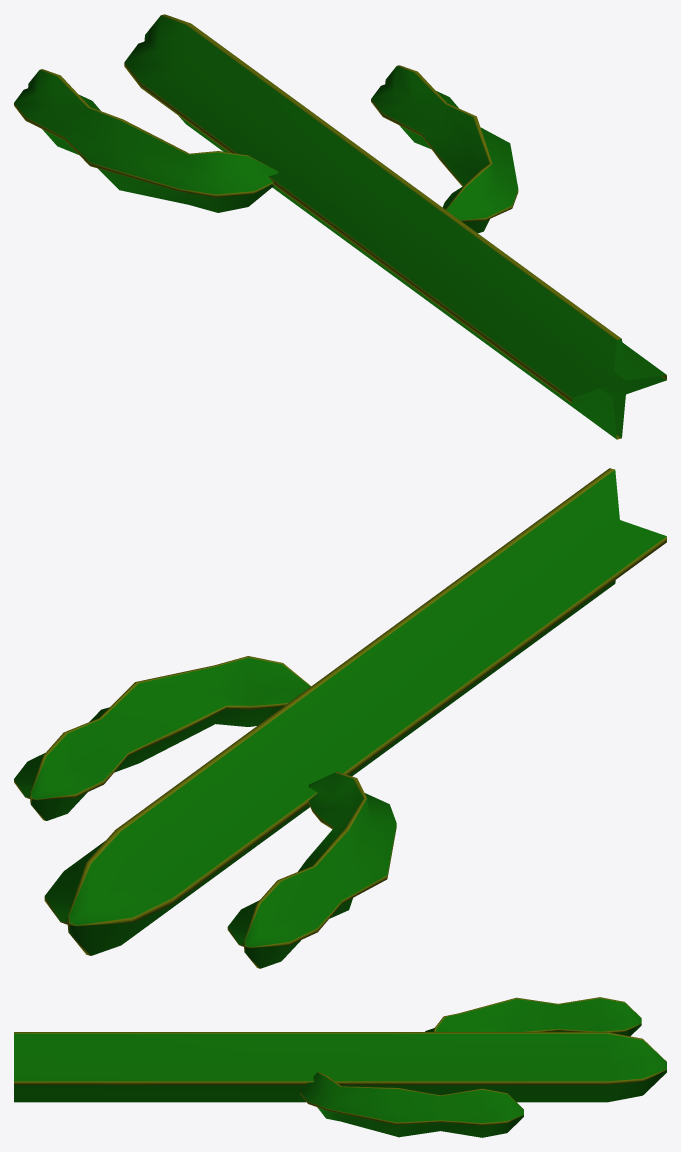
File: Cactus_02_LOD2.fbx
The picture shows the model from 3 angles, top to bottom: view 1: azimuth 30°, elevation 25°; view 2: azimuth 150°, elevation 25°; view 3: azimuth 270°, elevation 25°; orthographic projection. The views are drawn at different scales.
Visible parts, largest first — view 1: LP_Cactus_02_LOD2; view 2: LP_Cactus_02_LOD2; view 3: LP_Cactus_02_LOD2.
Boxes of the visible parts, x1,y1,x2,y2 form: LP_Cactus_02_LOD2: [14, 14, 666, 439]; LP_Cactus_02_LOD2: [14, 468, 666, 968]; LP_Cactus_02_LOD2: [14, 997, 666, 1137].
Bounding box in the file's own units: 1.24 × 0.3477 × 3.
